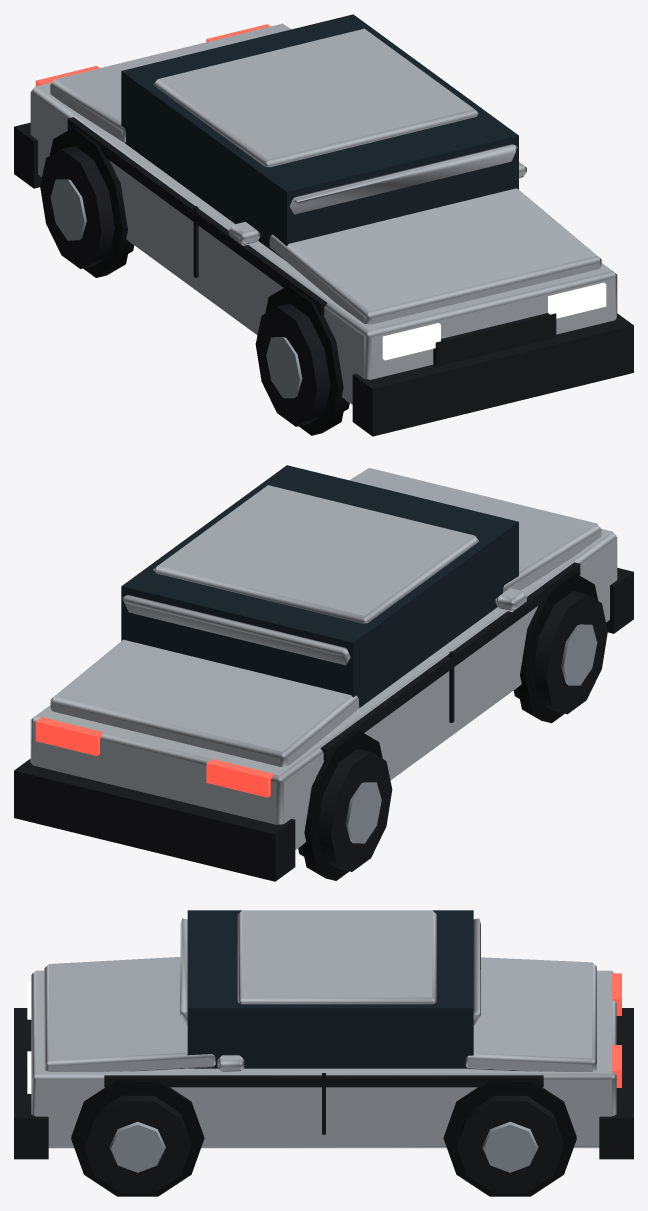
The model's file is car.glb.
3 views of the same model, one above another, from view 1: azimuth 30°, elevation 25°; view 2: azimuth 150°, elevation 25°; view 3: azimuth 270°, elevation 25° (orthographic). The views are drawn at different scales.
Visible parts, largest first — view 1: car_car_body, car_car_dark, car_car_glass, car_arch, car_steel, car_car_head; view 2: car_car_body, car_car_glass, car_car_dark, car_arch, car_car_tail, car_steel; view 3: car_car_body, car_car_glass, car_car_dark, car_arch, car_steel, car_car_tail, car_car_head.
Part boxes in pixels (box(x1,y1,x2,y2)): car_car_body: box(30, 23, 617, 404); car_car_dark: box(14, 117, 633, 436); car_car_glass: box(121, 14, 518, 260); car_arch: box(49, 127, 345, 435); car_steel: box(50, 179, 302, 398); car_car_head: box(382, 282, 606, 360); car_car_body: box(30, 468, 617, 849); car_car_glass: box(121, 465, 518, 707); car_car_dark: box(14, 562, 633, 881); car_arch: box(302, 572, 598, 880); car_car_tail: box(35, 717, 273, 797); car_steel: box(345, 624, 597, 843); car_car_body: box(31, 910, 616, 1148); car_car_glass: box(187, 910, 473, 1068); car_car_dark: box(14, 1008, 633, 1193); car_arch: box(71, 1080, 576, 1196); car_steel: box(109, 1121, 538, 1172); car_car_tail: box(611, 973, 621, 1087); car_car_head: box(27, 981, 31, 1093).
Bounding box in the file's own units: 2.23 × 1.55 × 4.66.
